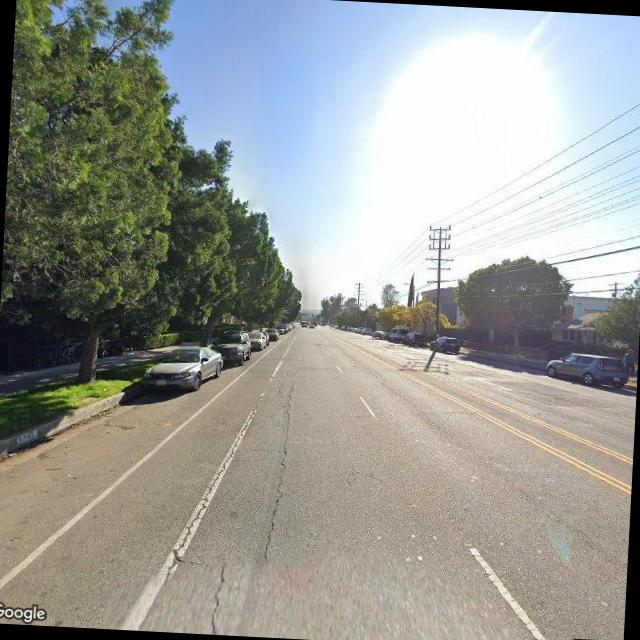pothole: (171, 394, 262, 563), (258, 378, 294, 560), (206, 552, 232, 634)
